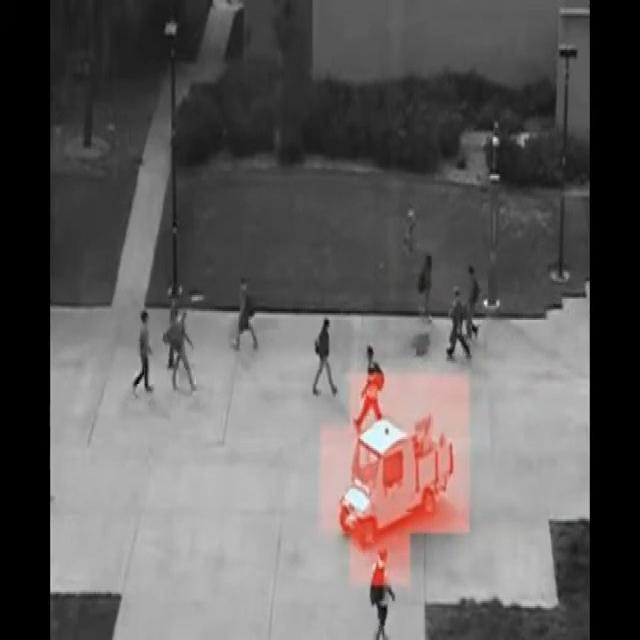anamoly: (331, 390, 464, 558)
